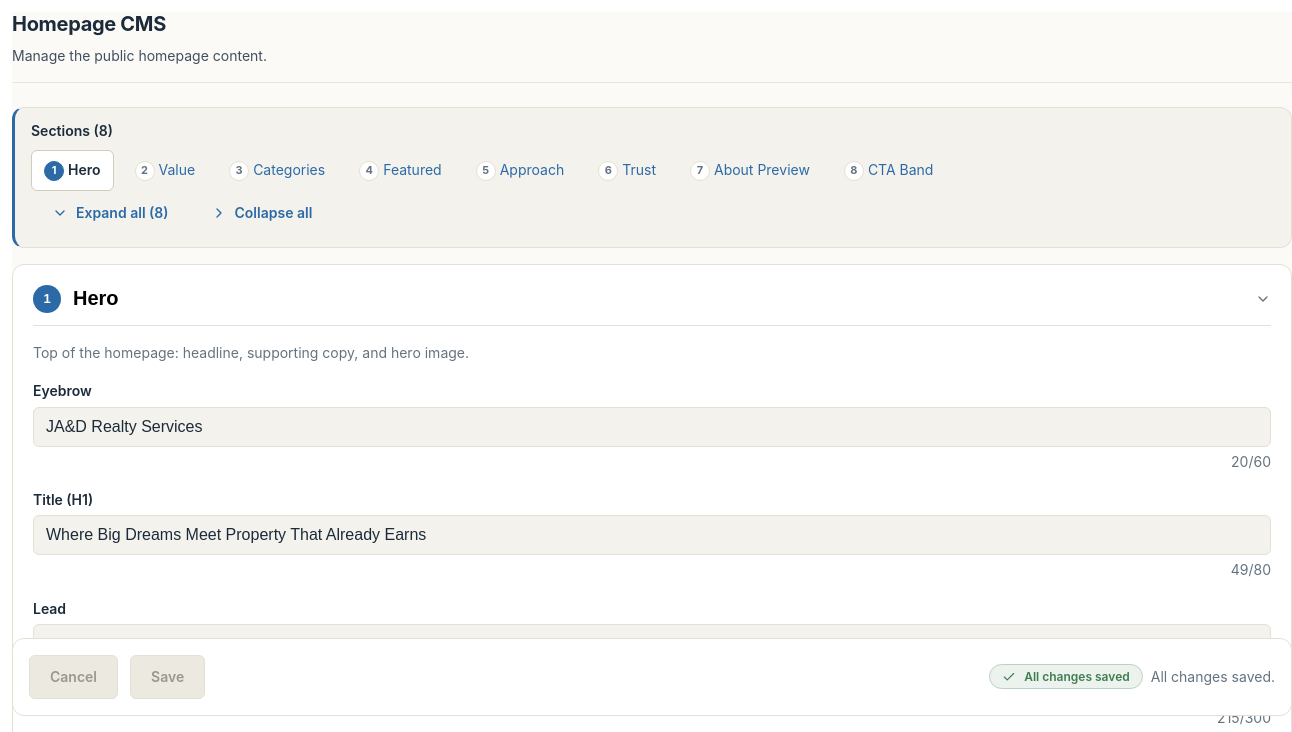
Test: CmsHomepagePage — Phase 1 Homepage CMS › allows text editing and reflects in preview
Expected: the heading "Hero" is shown, [73, 287, 119, 310]
Replace the text in the field showing "Where Big Dreams Meet Property That Already Earns" with "New Homepage Title": (652, 535) [33, 515, 1271, 555]
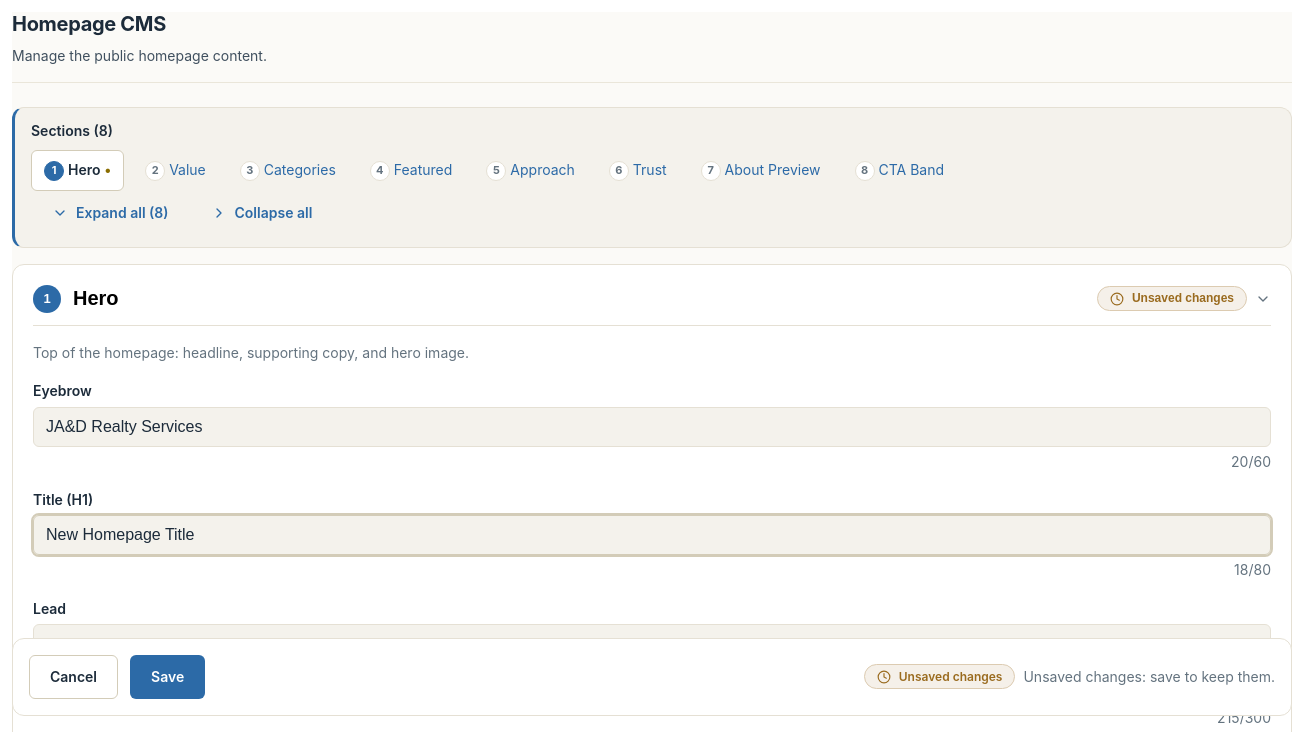
Now the 1st text "Unsaved changes" is shown, box [1097, 286, 1247, 311]
Now the button "Save" is enabled, box [130, 655, 205, 699]
